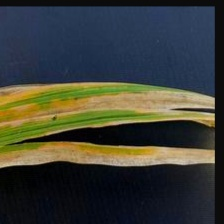Leaf_Blast: (0, 81, 209, 177)
